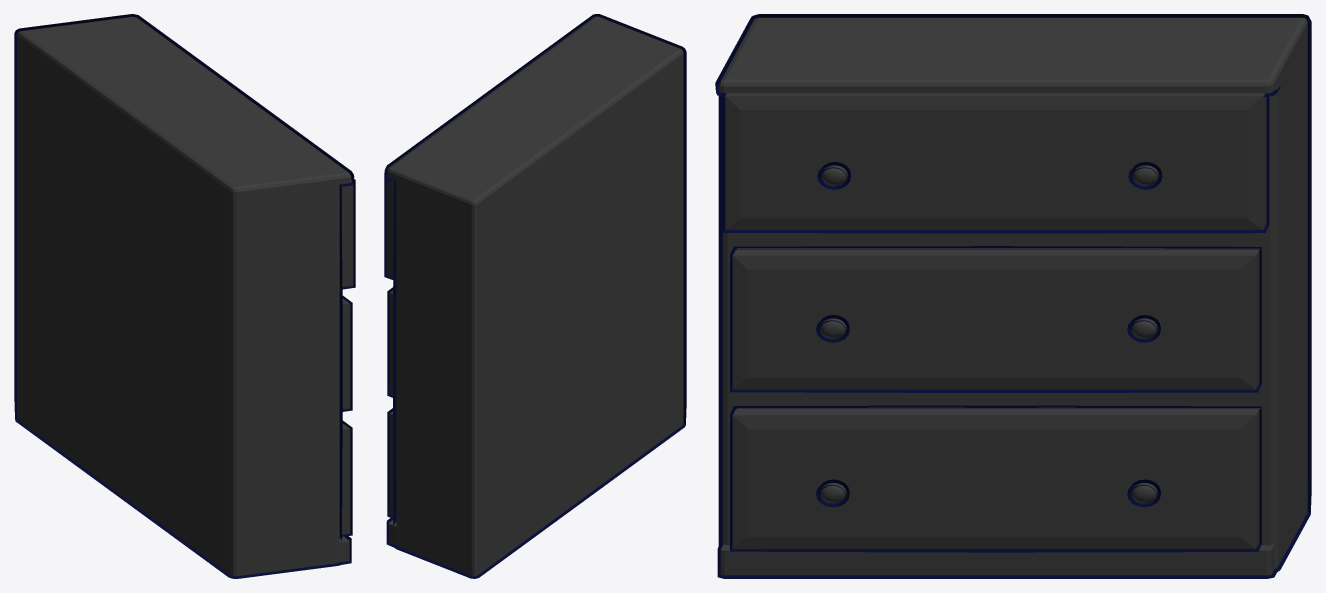
3 views of the same model, side by side, from view 1: azimuth 30°, elevation 25°; view 2: azimuth 150°, elevation 25°; view 3: azimuth 270°, elevation 25° (orthographic). The views are drawn at different scales.
Parts seen in each view (by area): view 1: Dresser_Closed; view 2: Dresser_Closed; view 3: Dresser_Closed.
Boxes of the visible parts, x1,y1,x2,y2 form: Dresser_Closed: [14, 14, 355, 578]; Dresser_Closed: [384, 14, 686, 578]; Dresser_Closed: [715, 14, 1311, 578].
Size of the model in its own units: 0.4295 by 1.2 by 1.3.
